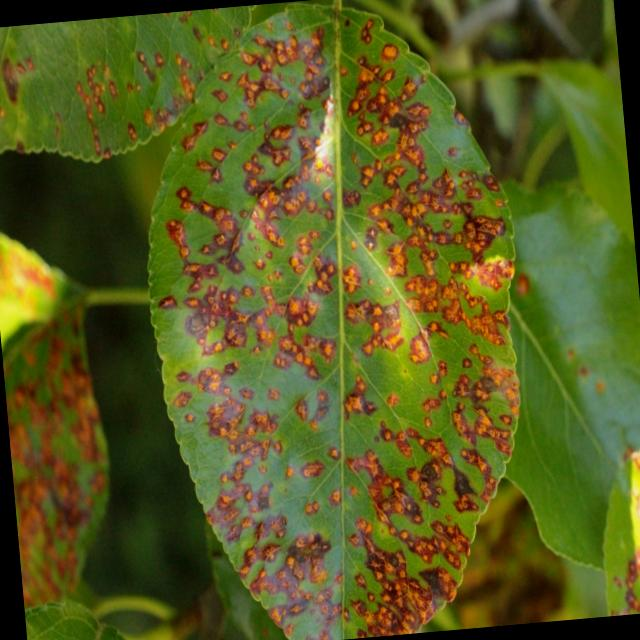leaf_rust: (150, 0, 519, 640)
